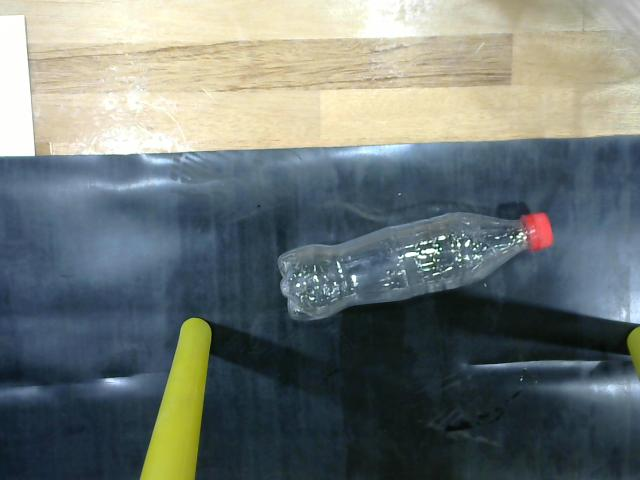bottle: (276, 209, 556, 330)
